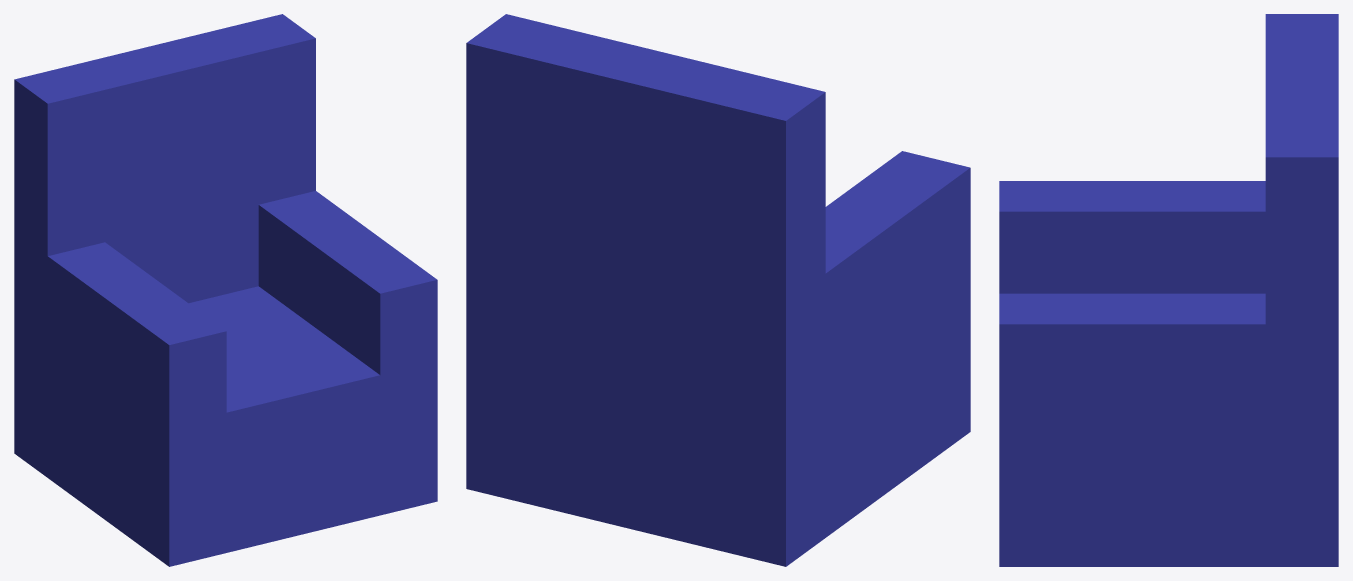
The model's file is chairGentleman_1-5x1x1-5.FBX.
3 views of the same model, side by side, from view 1: azimuth 30°, elevation 25°; view 2: azimuth 150°, elevation 25°; view 3: azimuth 270°, elevation 25° (orthographic). The views are drawn at different scales.
Visible parts, largest first — view 1: chairGentleman_1.5x2x1.5; view 2: chairGentleman_1.5x2x1.5; view 3: chairGentleman_1.5x2x1.5.
Part boxes in pixels (x1=…): chairGentleman_1.5x2x1.5: x1=14, y1=14, x2=437, y2=566; chairGentleman_1.5x2x1.5: x1=466, y1=14, x2=970, y2=566; chairGentleman_1.5x2x1.5: x1=999, y1=14, x2=1338, y2=566.
Bounding box in the file's own units: 1.5 × 2 × 1.5.
